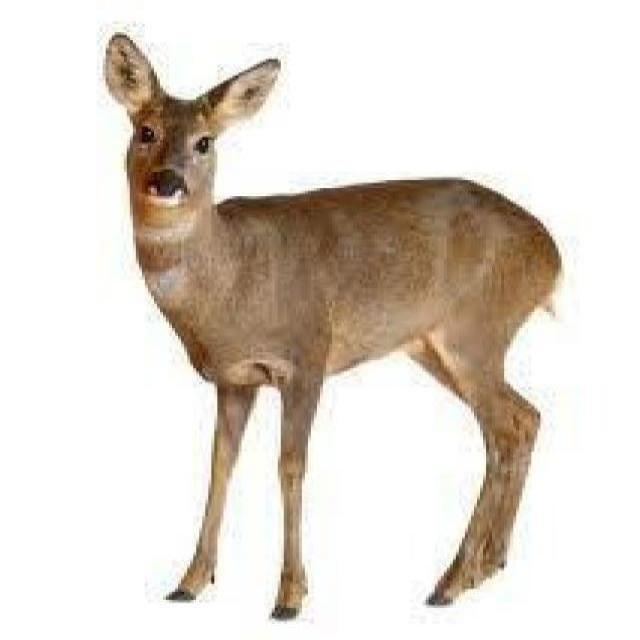deer: (96, 24, 567, 625)
